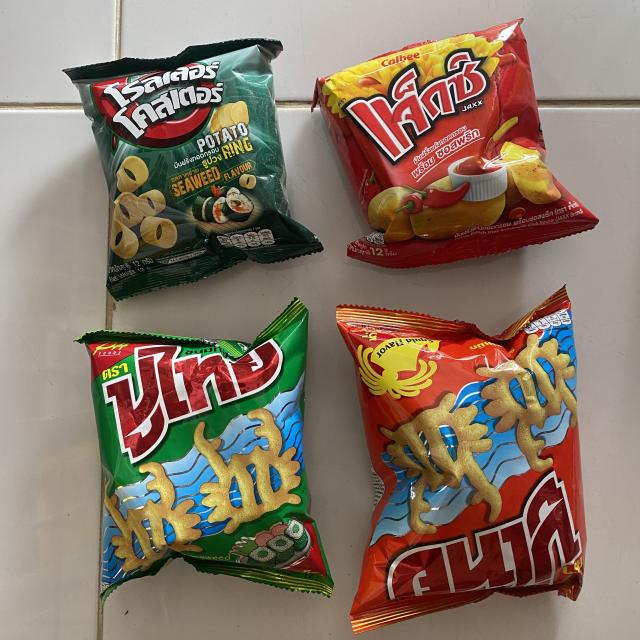plastik: (336, 288, 586, 632), (78, 299, 334, 599), (312, 20, 598, 268), (65, 39, 322, 300)
